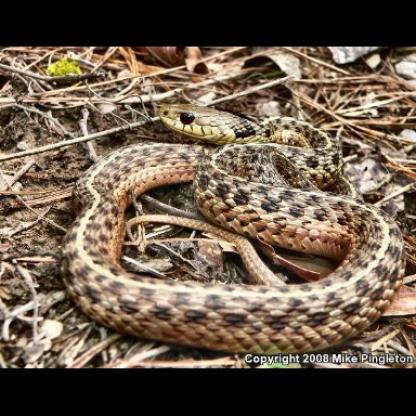Snake: (61, 101, 399, 346)
